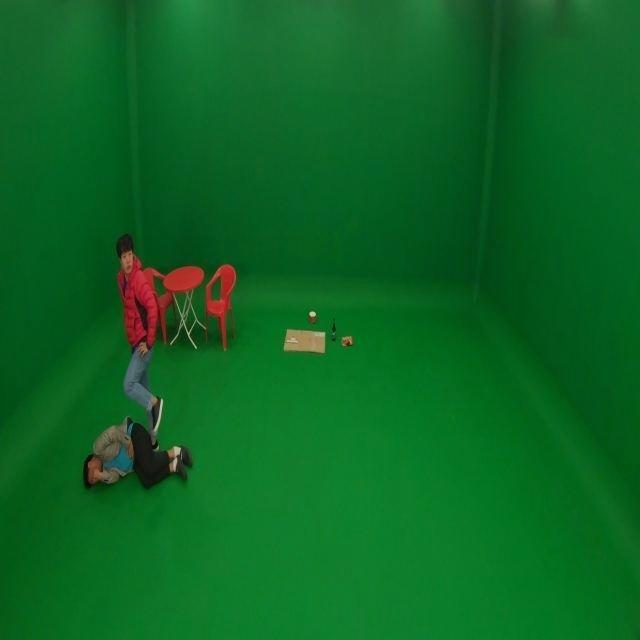fight: (75, 229, 198, 496)
